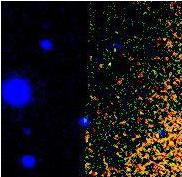star: (96, 49, 126, 79)
